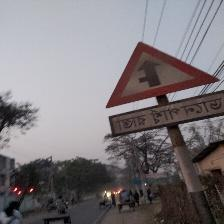Side-road-right: (104, 41, 224, 139)
